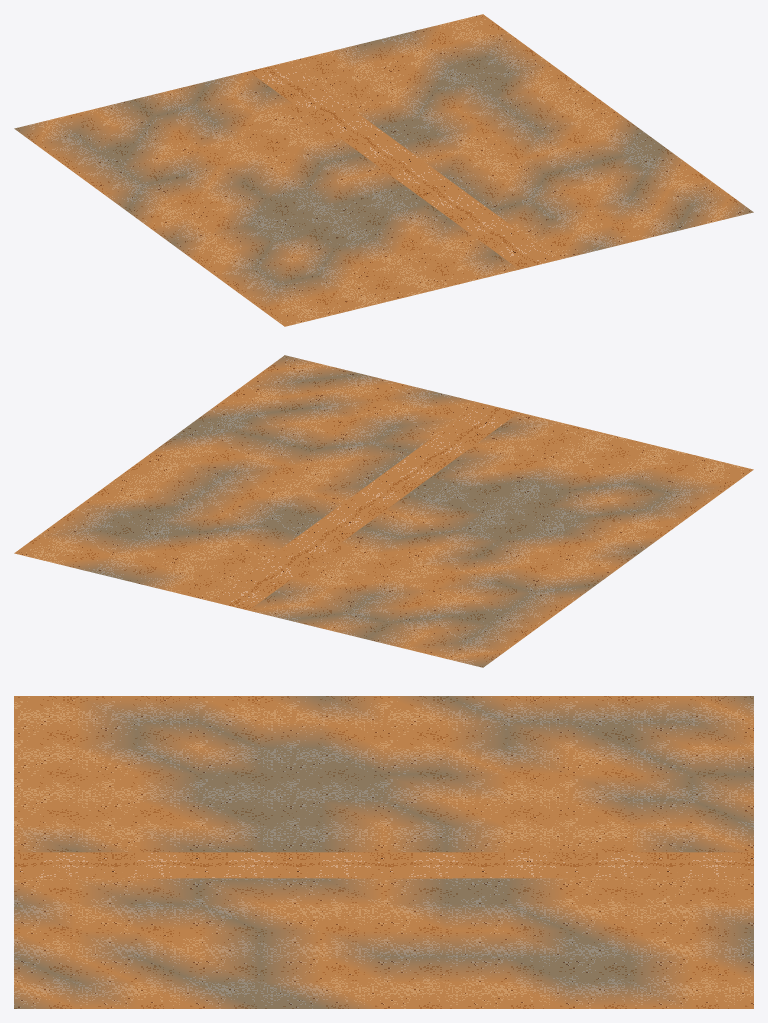
File: wland.ground__yard.glb
3 views of the same model, one above another, from view 1: azimuth 30°, elevation 25°; view 2: azimuth 150°, elevation 25°; view 3: azimuth 270°, elevation 25° (orthographic). The views are drawn at different scales.
Parts seen in each view (by area): view 1: kit_shell_ground; view 2: kit_shell_ground; view 3: kit_shell_ground.
Part boxes in pixels (box(x1,y1,x2,y2)): kit_shell_ground: box(14, 14, 753, 326); kit_shell_ground: box(14, 355, 753, 667); kit_shell_ground: box(14, 696, 753, 1008).
Bounding box in the file's own units: 48 × 0.0203 × 48.
2 materials, 2 textured.
